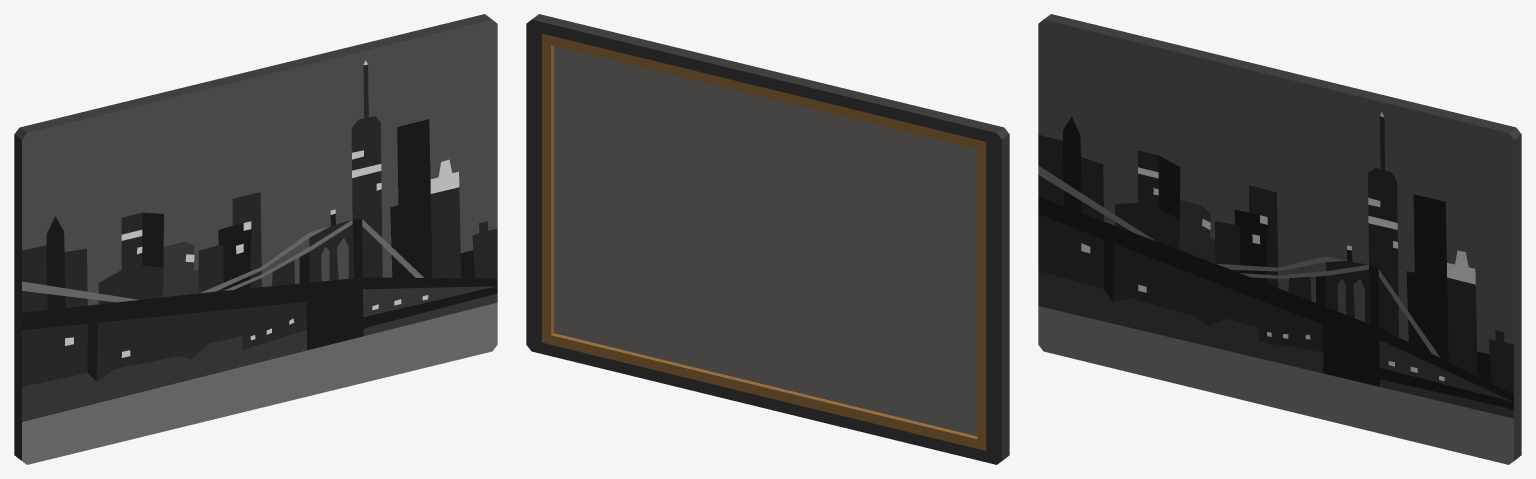
Rendered from furniture_picture-city-night.fbx.
The picture shows the model from 3 angles, left to right: view 1: azimuth 30°, elevation 25°; view 2: azimuth 150°, elevation 25°; view 3: azimuth 330°, elevation 25°; orthographic projection.
Parts seen in each view (by area): view 1: furniture_picture_city_night; view 2: furniture_picture_city_night; view 3: furniture_picture_city_night.
Boxes of the visible parts, <box> form: furniture_picture_city_night: <box>14,14,497,464</box>; furniture_picture_city_night: <box>526,14,1009,464</box>; furniture_picture_city_night: <box>1038,14,1521,464</box>.
Size of the model in its own units: 200 by 133 by 5.56.
